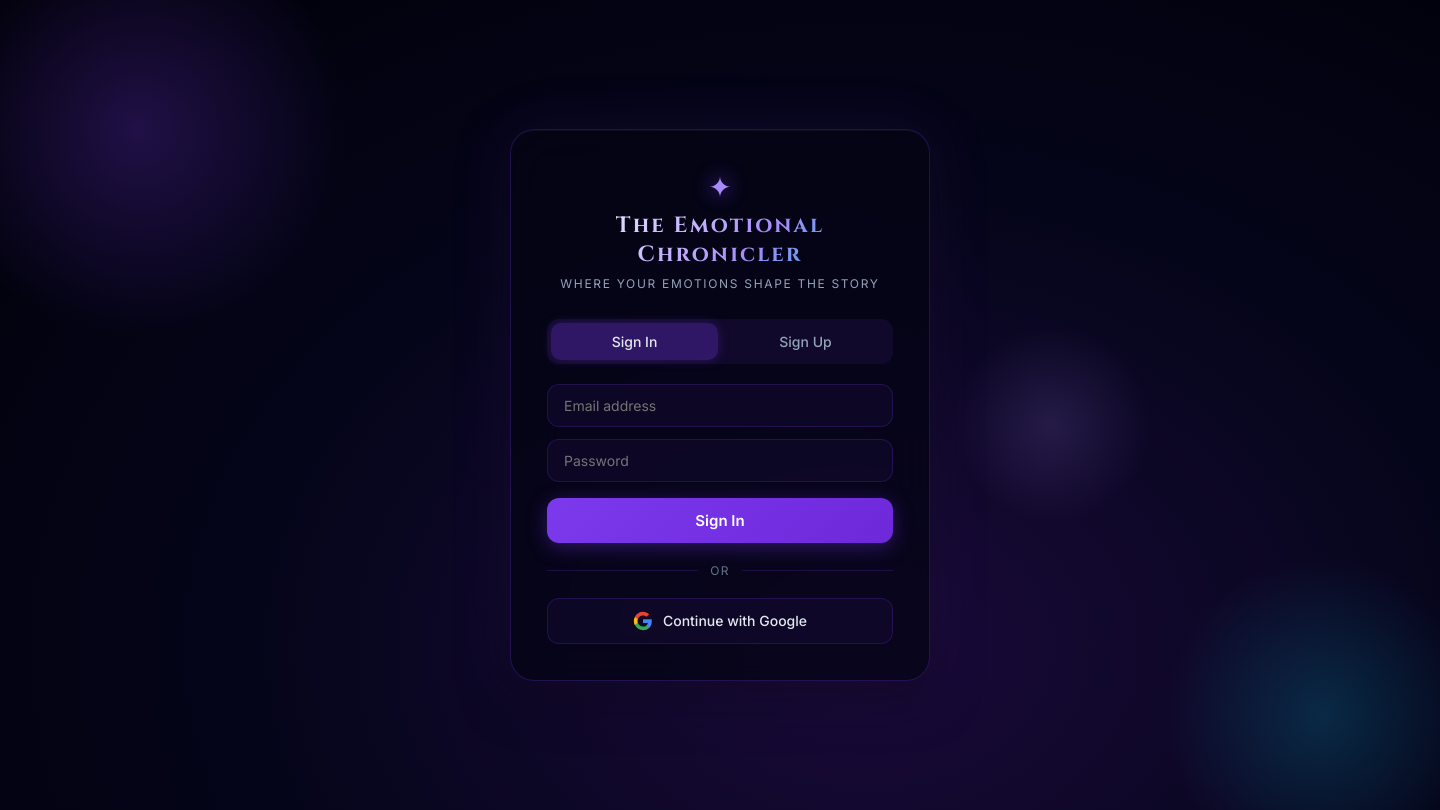
AuthScreen › tab switching › should switch to sign-up form when Sign Up tab is clicked
The width and height of the screenshot is (1440, 810).
Click the button "Sign Up". click: (806, 341)
box: [722,323,889,360]
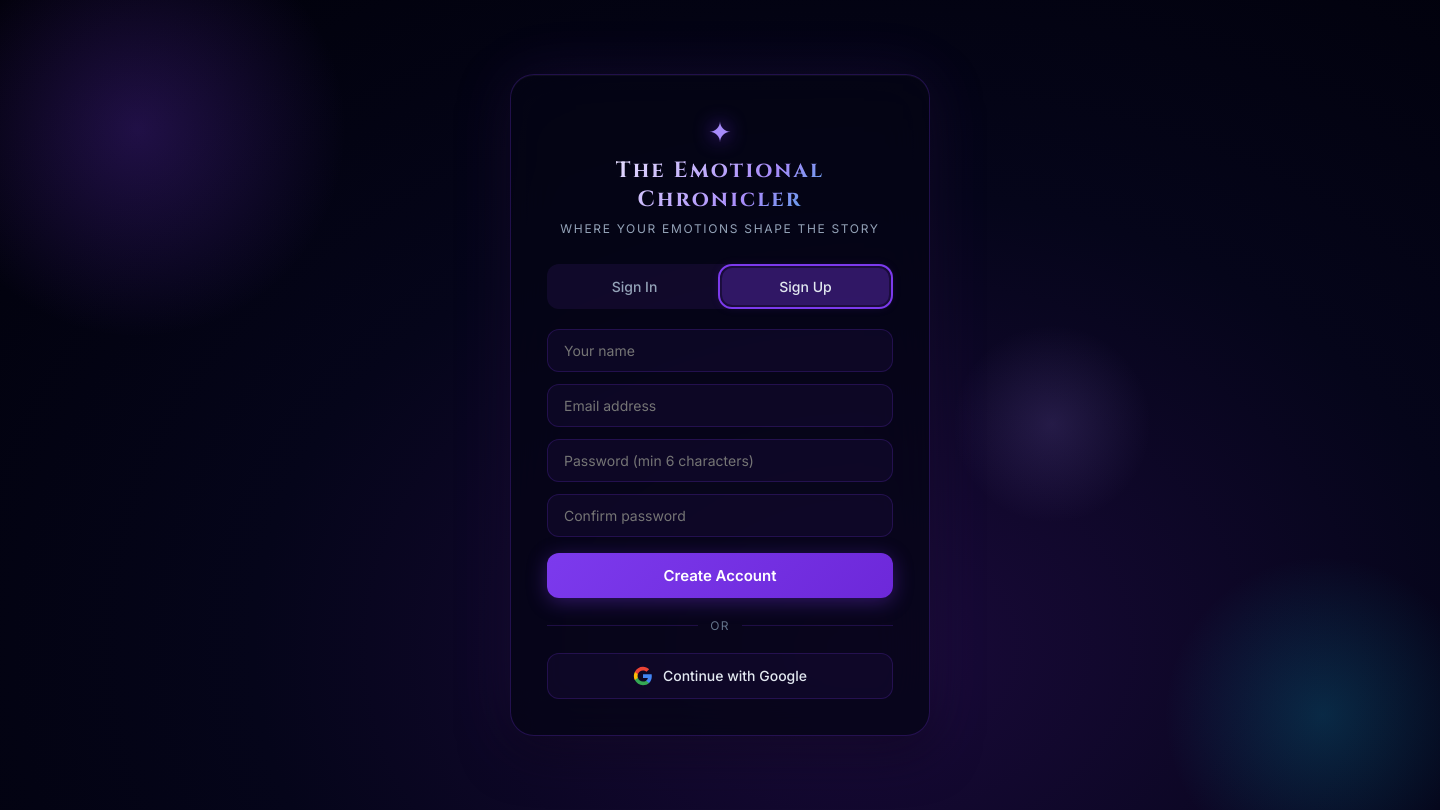
Check: the field with placeholder "Your name" is shown, box [547,329,893,372]
Check: the password field with placeholder "Password (min 6 characters)" is shown, box [547,439,893,482]
Check: the password field with placeholder "Confirm password" is shown, box [547,494,893,537]
